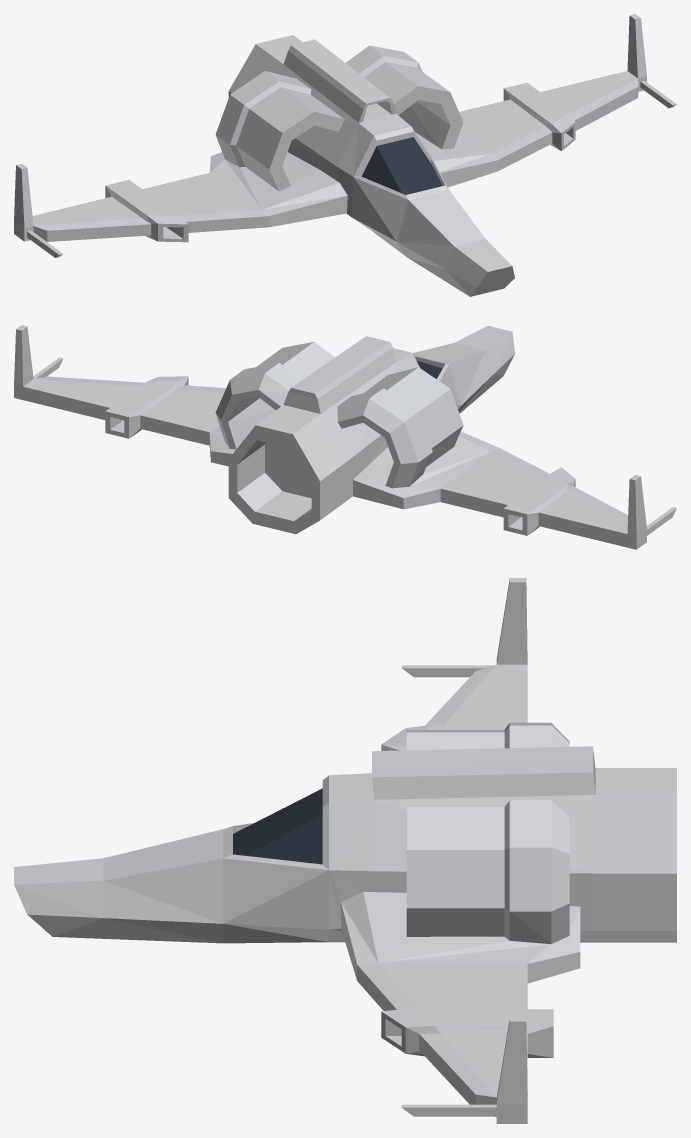
Rendered from ship2.glb.
3 views of the same model, one above another, from view 1: azimuth 30°, elevation 25°; view 2: azimuth 150°, elevation 25°; view 3: azimuth 270°, elevation 25° (orthographic). The views are drawn at different scales.
Visible parts, largest first — view 1: ship; view 2: ship; view 3: ship.
Part boxes in pixels (x1=…): ship: x1=14, y1=14, x2=676, y2=296; ship: x1=14, y1=325, x2=676, y2=549; ship: x1=14, y1=578, x2=676, y2=1123.
Size of the model in its own units: 6.48 by 1.17 by 4.07.
